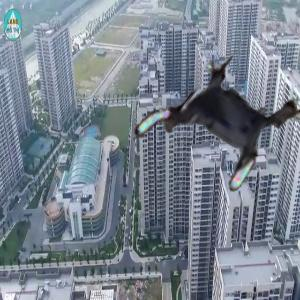drone: (146, 46, 298, 198)
